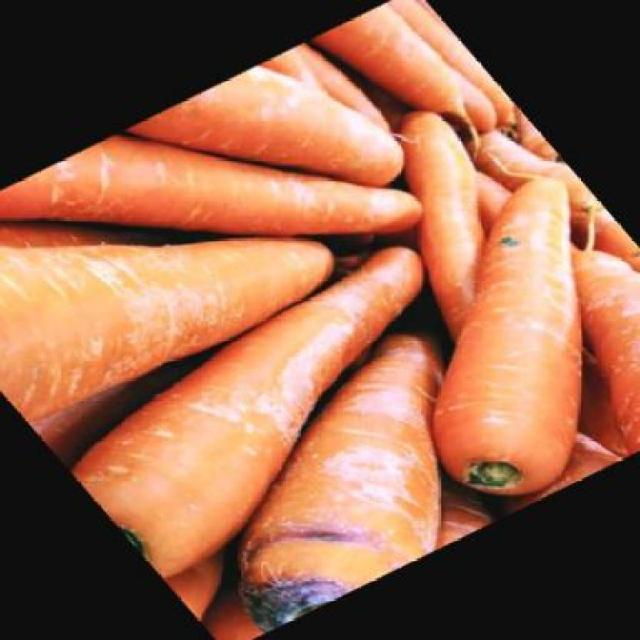carrot: (29, 242, 538, 580), (0, 49, 437, 386), (125, 323, 566, 631), (294, 168, 638, 517), (0, 101, 352, 433), (301, 104, 585, 347), (130, 41, 418, 254), (14, 327, 249, 487), (494, 230, 638, 455), (308, 0, 476, 138), (372, 0, 526, 138), (126, 512, 276, 638), (480, 96, 572, 186)
